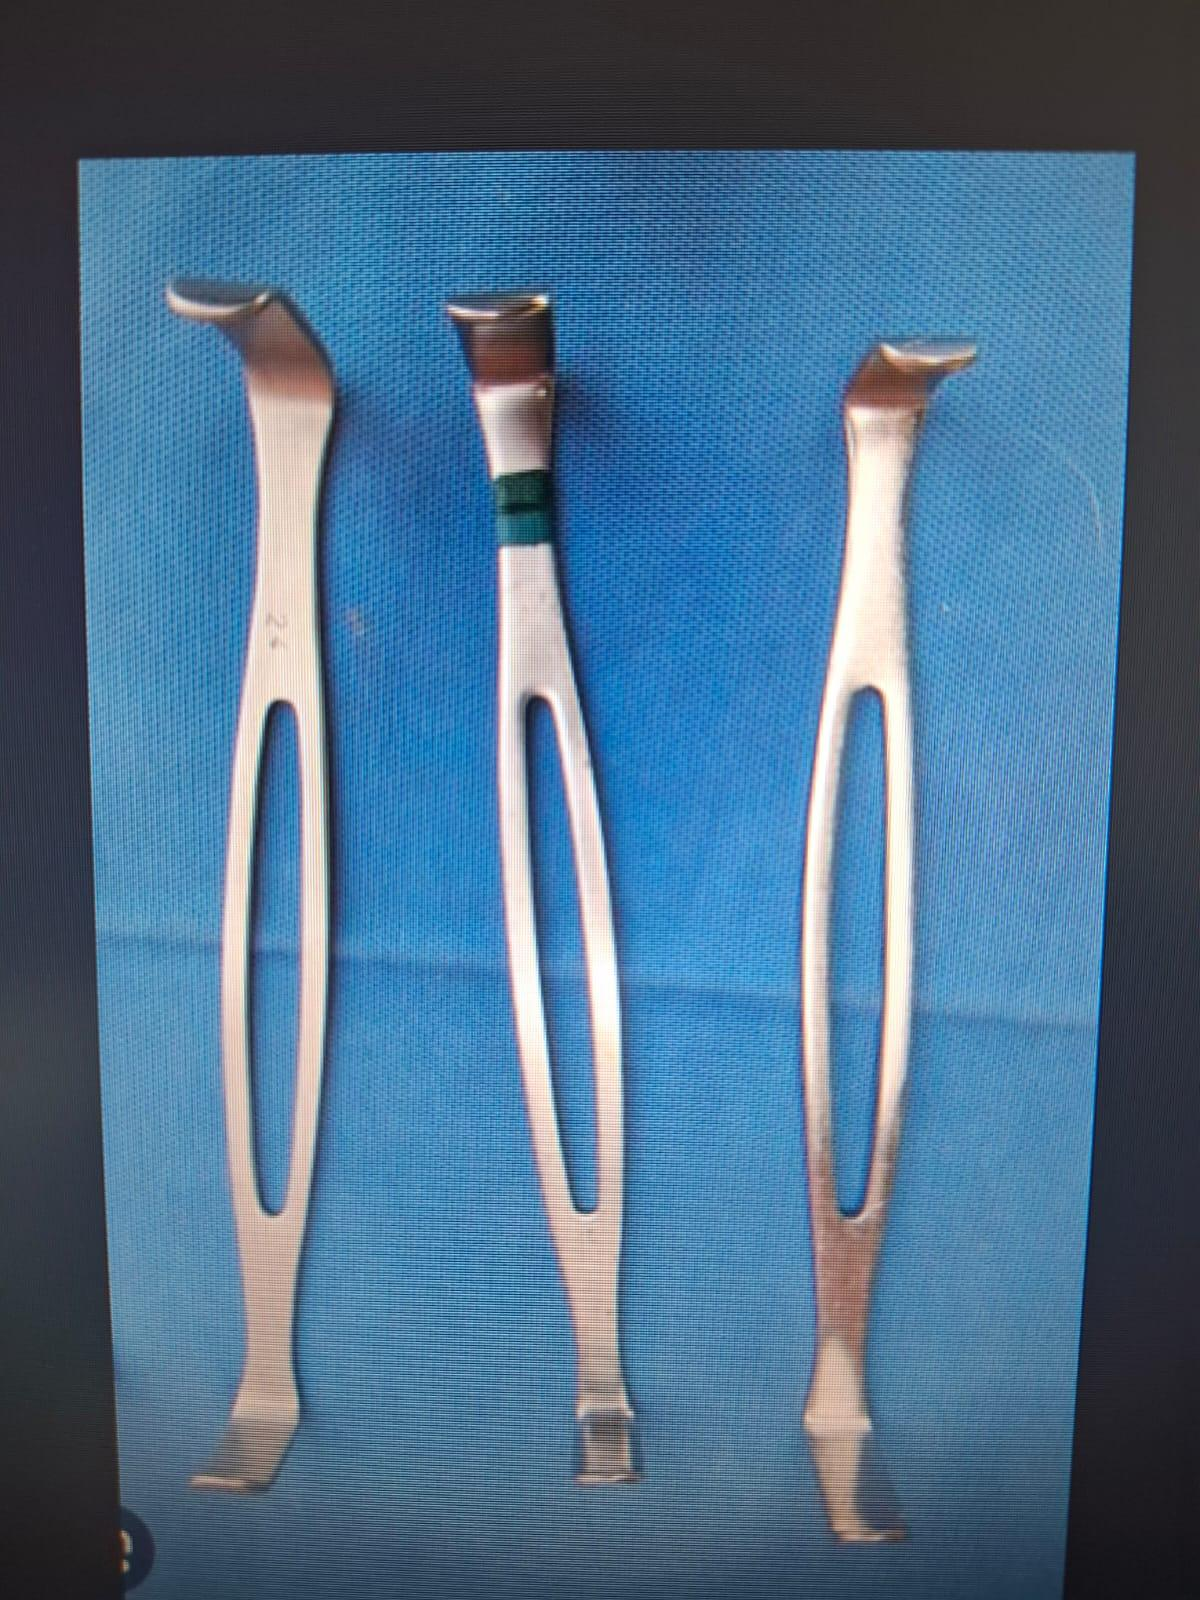Army Navy Retractor: (135, 249, 437, 1511), (760, 297, 973, 1562)
